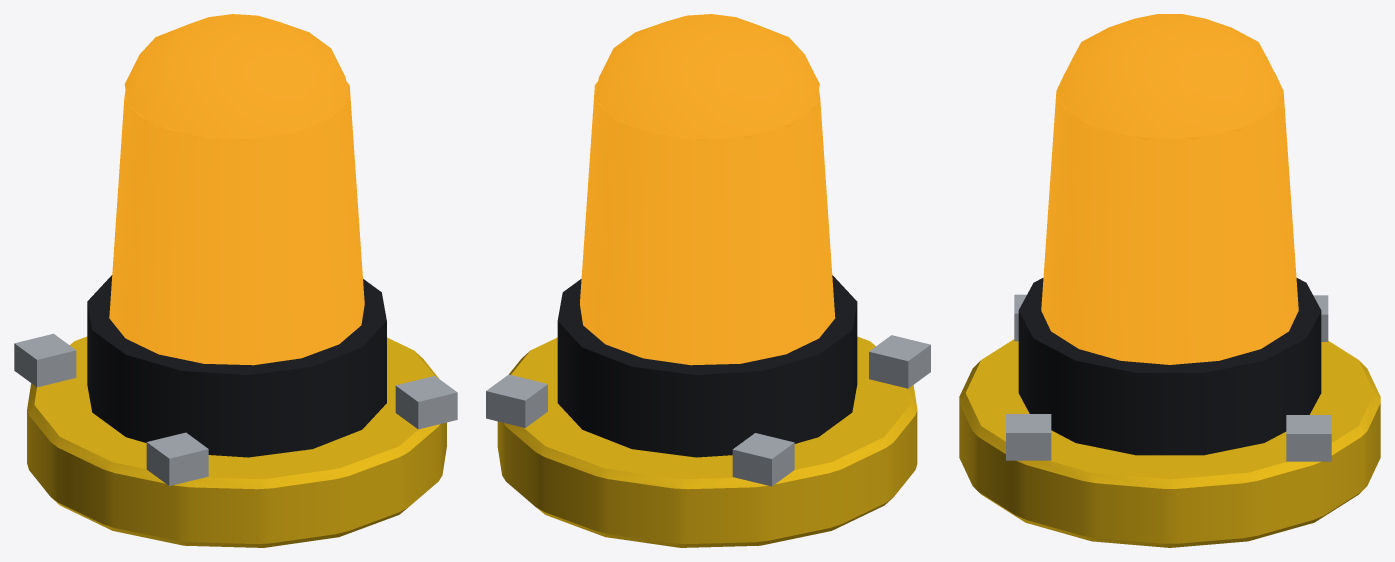
Rendered from warnlight_rotating_beacon.glb.
The picture shows the model from 3 angles, left to right: view 1: azimuth 30°, elevation 25°; view 2: azimuth 150°, elevation 25°; view 3: azimuth 270°, elevation 25°; orthographic projection.
Parts seen in each view (by area): view 1: warnlight_rotating_beacon; view 2: warnlight_rotating_beacon; view 3: warnlight_rotating_beacon.
Part boxes in pixels (<box>): warnlight_rotating_beacon: <box>14,14,457,547</box>; warnlight_rotating_beacon: <box>486,14,930,547</box>; warnlight_rotating_beacon: <box>959,14,1380,547</box>.
Size of the model in its own units: 0.278 by 0.315 by 0.278.
